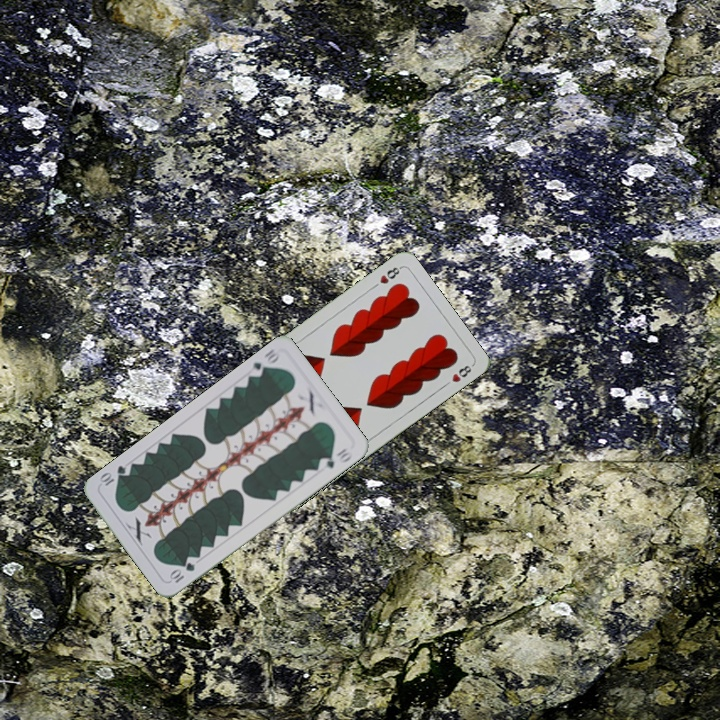G10: (245, 345, 283, 380), (166, 558, 198, 586)
H8: (375, 263, 404, 286)
